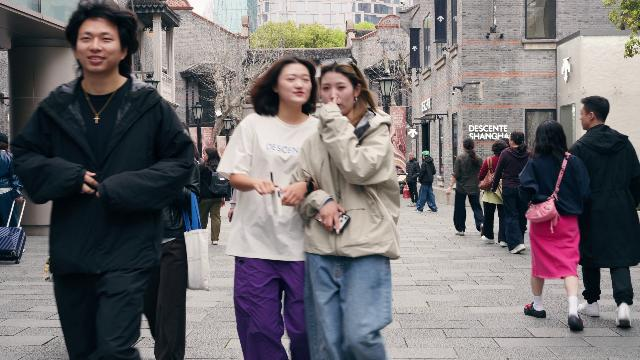person: (7, 0, 198, 360), (216, 55, 324, 360), (296, 57, 401, 360), (568, 95, 640, 329), (518, 120, 590, 332), (490, 130, 533, 254), (446, 137, 486, 236), (477, 139, 507, 247), (0, 132, 24, 228), (412, 150, 438, 212), (405, 152, 420, 206)
